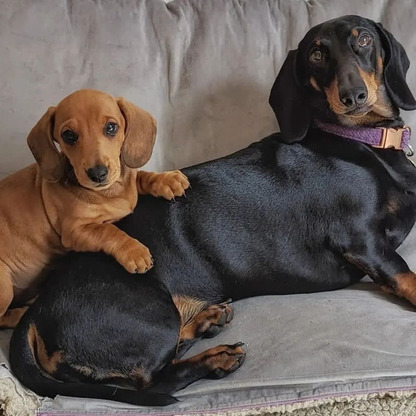dachshund: (24, 88, 199, 285), (256, 3, 407, 212)
